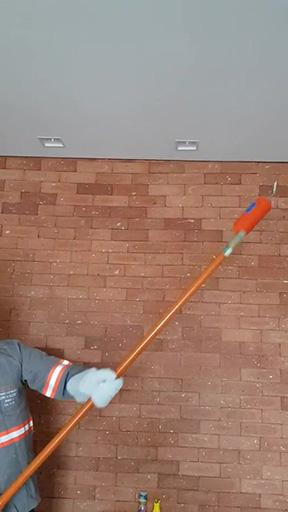Detector_Tensao_Contato: (231, 180, 286, 236)
Vara_Manobra: (1, 234, 242, 502)
